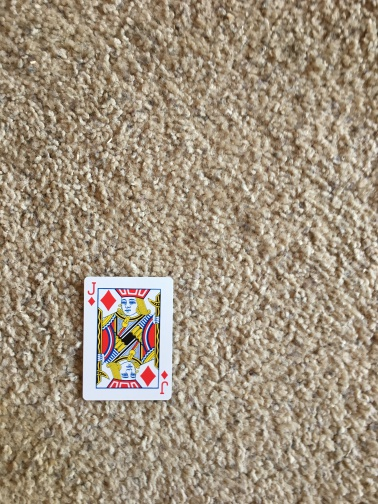jack: (82, 276, 175, 401)
